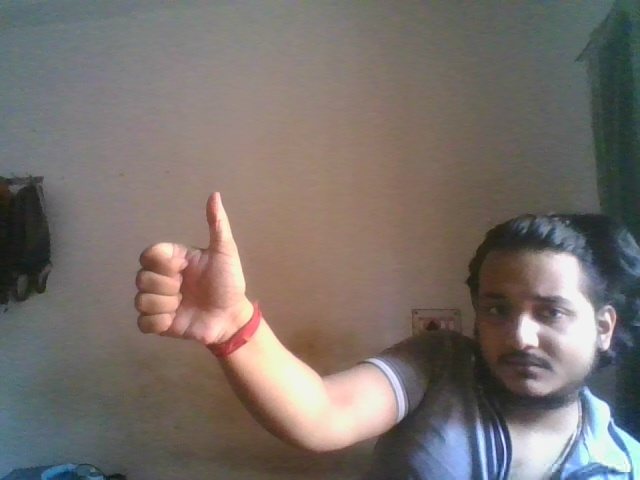ThumbsUp: (134, 191, 242, 341)
